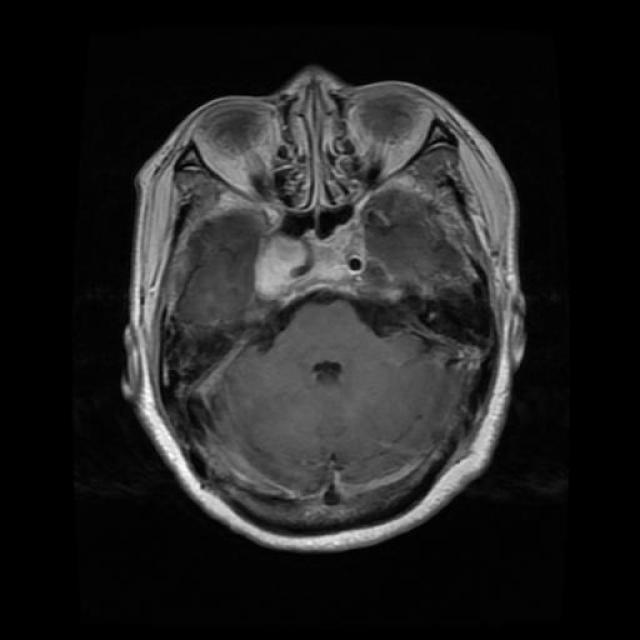meningioma: (264, 212, 359, 310)
